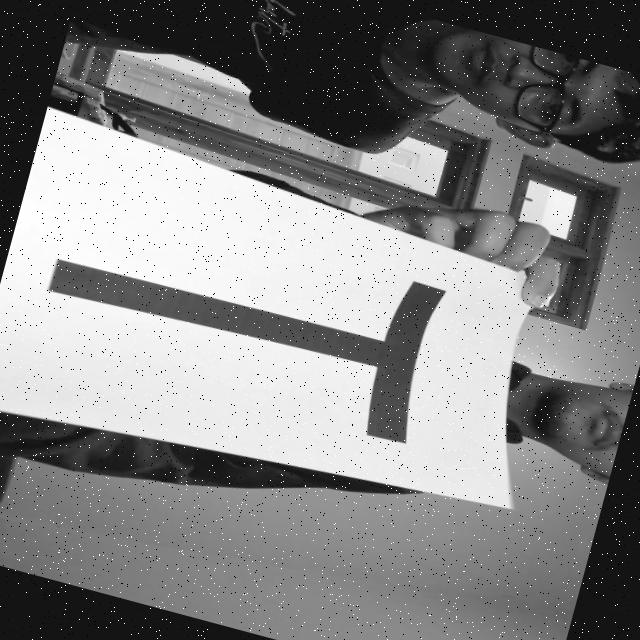t: (5, 178, 462, 464)
